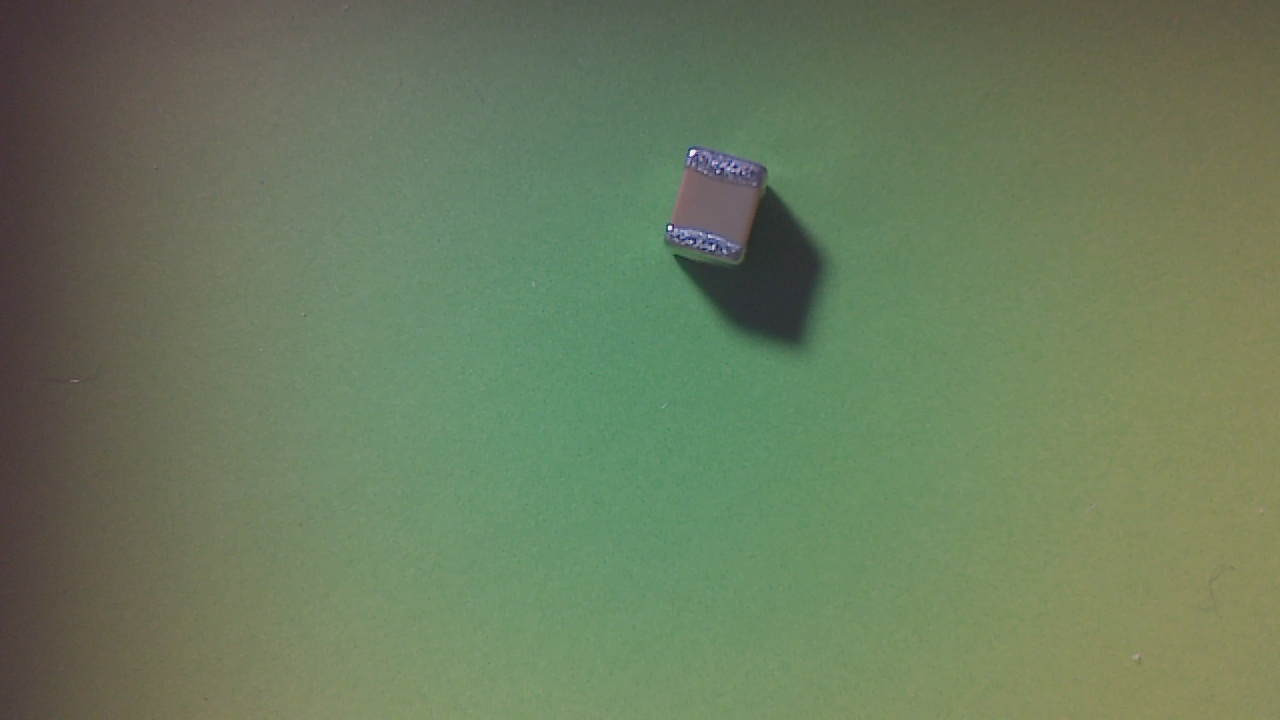Condensator: (666, 149, 773, 274)
